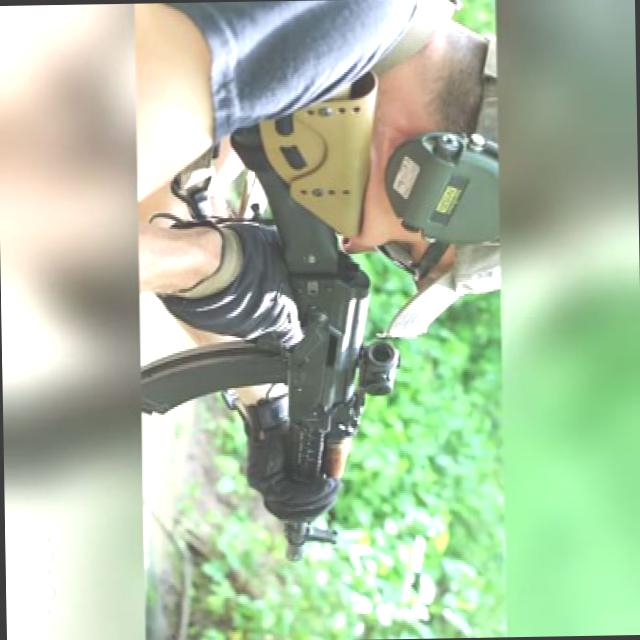long weapon: (138, 67, 397, 569)
